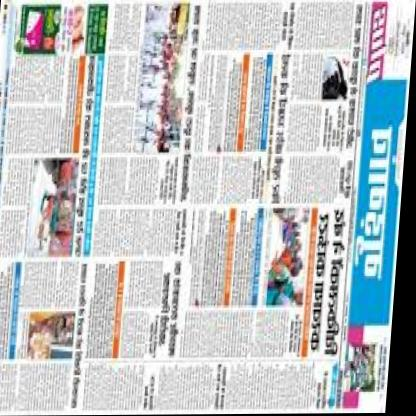Paper: (0, 0, 410, 414)
